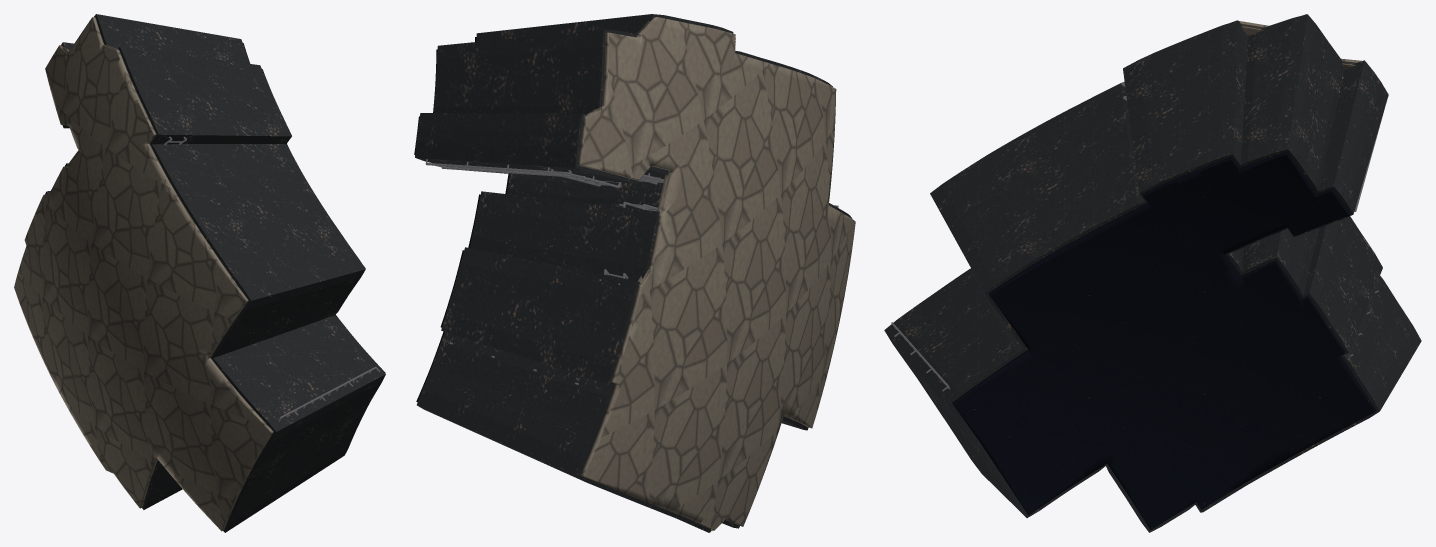
The model's file is orion.glb.
3 views of the same model, side by side, from view 1: azimuth 30°, elevation 25°; view 2: azimuth 150°, elevation 25°; view 3: azimuth 270°, elevation 25° (orthographic). The views are drawn at different scales.
Parts seen in each view (by area): view 1: outer_wall, walls, ladders; view 2: outer_wall, walls, ladders, star_wall; view 3: star_wall, walls.
Boxes of the visible parts, <box> form: outer_wall: <box>14,17,273,531</box>; walls: <box>45,14,385,532</box>; ladders: <box>164,136,380,421</box>; outer_wall: <box>577,17,855,531</box>; walls: <box>415,14,852,532</box>; ladders: <box>425,159,838,384</box>; star_wall: <box>414,37,509,401</box>; star_wall: <box>952,152,1375,529</box>; walls: <box>884,14,1421,532</box>.
Size of the model in its own units: 5.2 by 11.34 by 11.19.
131 materials, 131 textured.
